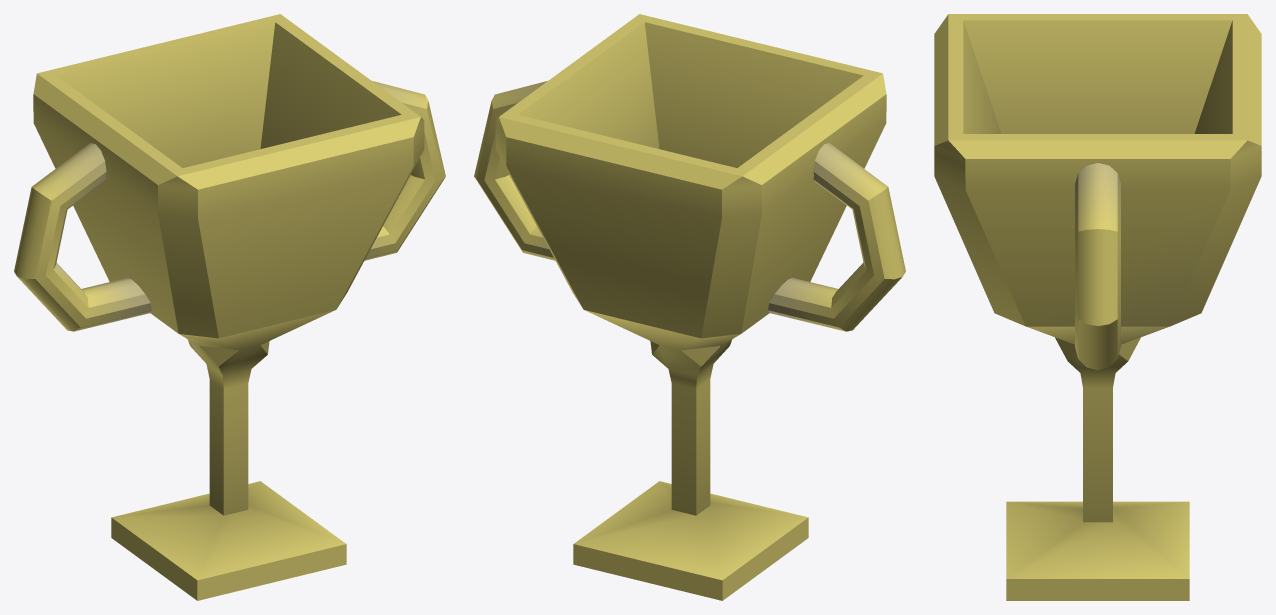
Rendered from WorldCup.fbx.
3 renders of one model, left to right at view 1: azimuth 30°, elevation 25°; view 2: azimuth 150°, elevation 25°; view 3: azimuth 270°, elevation 25°, orthographic. The views are drawn at different scales.
Parts seen in each view (by area): view 1: Cube; view 2: Cube; view 3: Cube.
Boxes of the visible parts, x1,y1,x2,y2 form: Cube: [14, 14, 445, 600]; Cube: [474, 14, 905, 600]; Cube: [934, 14, 1261, 600].
Size of the model in its own units: 572 by 585 by 357.
